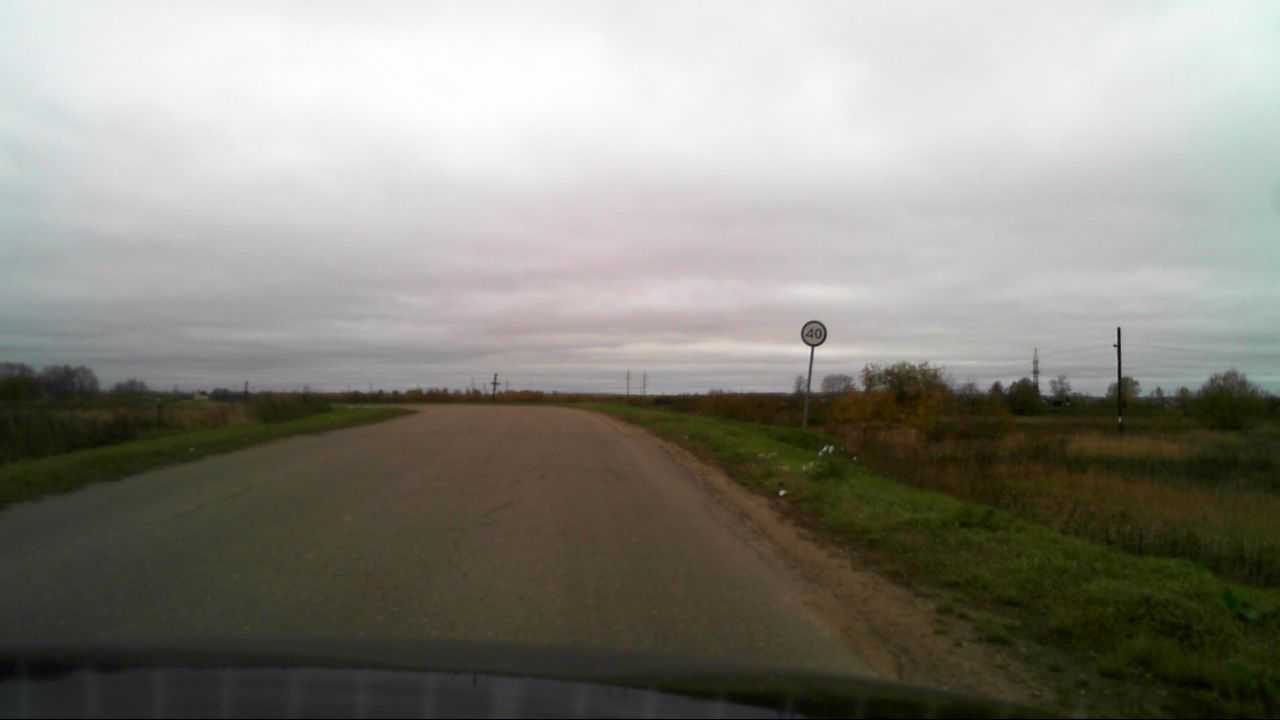speed_warning_40: (799, 320, 827, 346)
